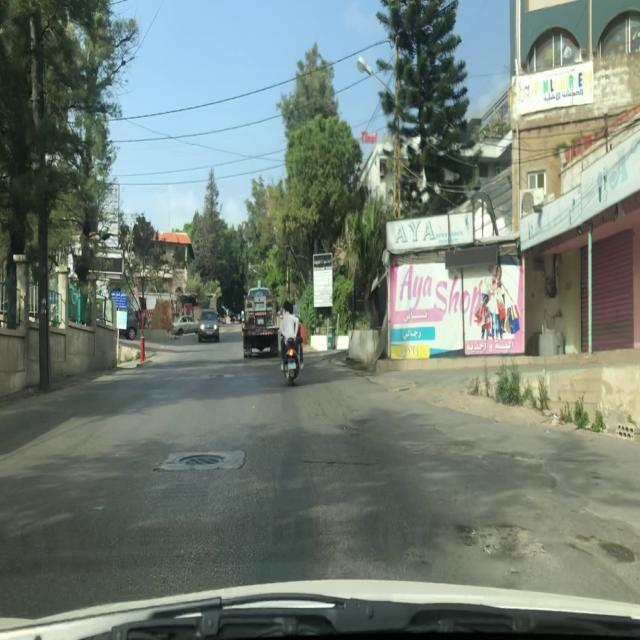pothole: (453, 517, 548, 559)
